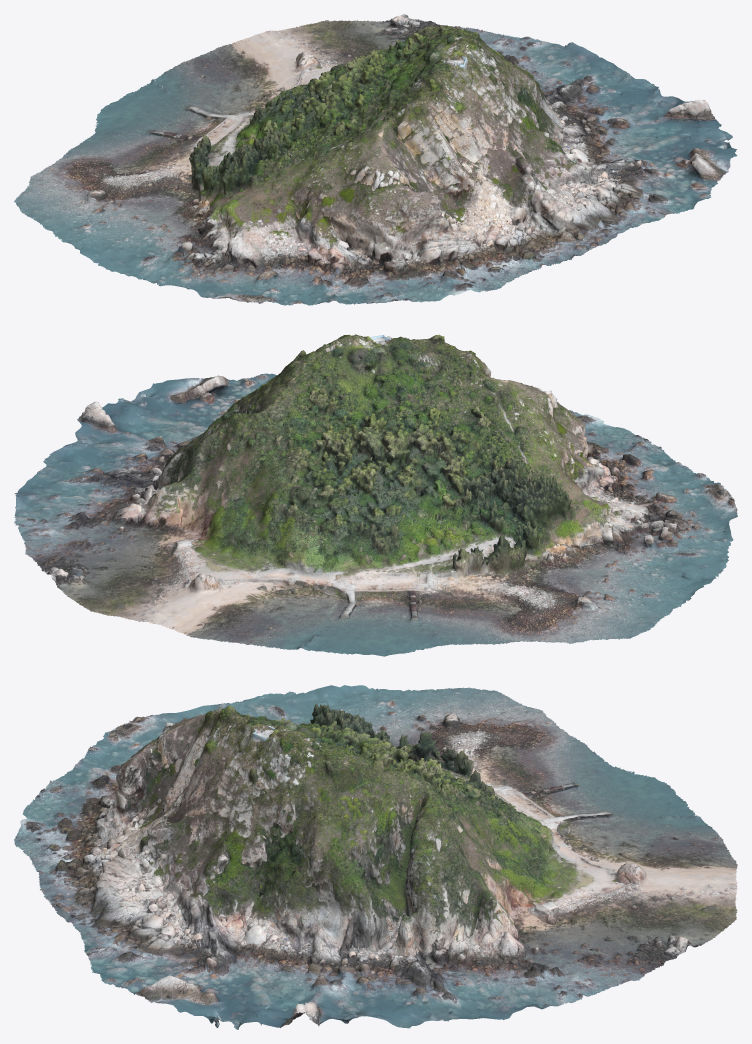
File: reef.glb
3 views of the same model, one above another, from view 1: azimuth 30°, elevation 25°; view 2: azimuth 150°, elevation 25°; view 3: azimuth 270°, elevation 25° (orthographic). The views are drawn at different scales.
Visible parts, largest first — view 1: Model; view 2: Model; view 3: Model.
Part boxes in pixels (x1,y1,x2,y2): Model: (14,14,737,305); Model: (14,334,737,656); Model: (14,685,737,1029).
Bounding box in the file's own units: 305 × 69.1 × 272.
2 materials, 2 textured.
